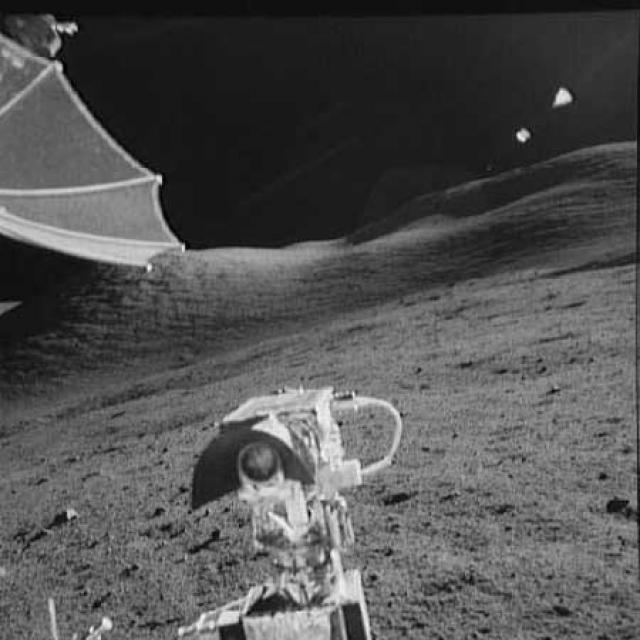artifact: (171, 384, 415, 639), (0, 3, 205, 279)
crater: (69, 347, 285, 394)
